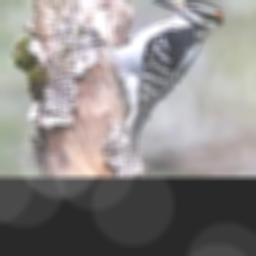Woodpecker: (108, 0, 223, 146)
